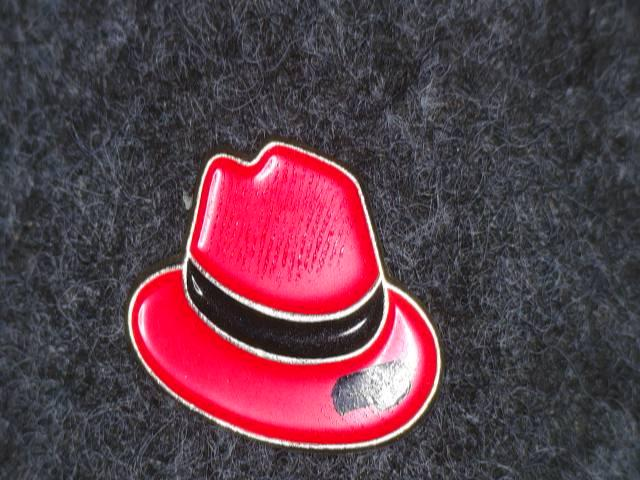Red-Hat: (95, 107, 479, 467)
Scratch: (305, 356, 431, 433)
